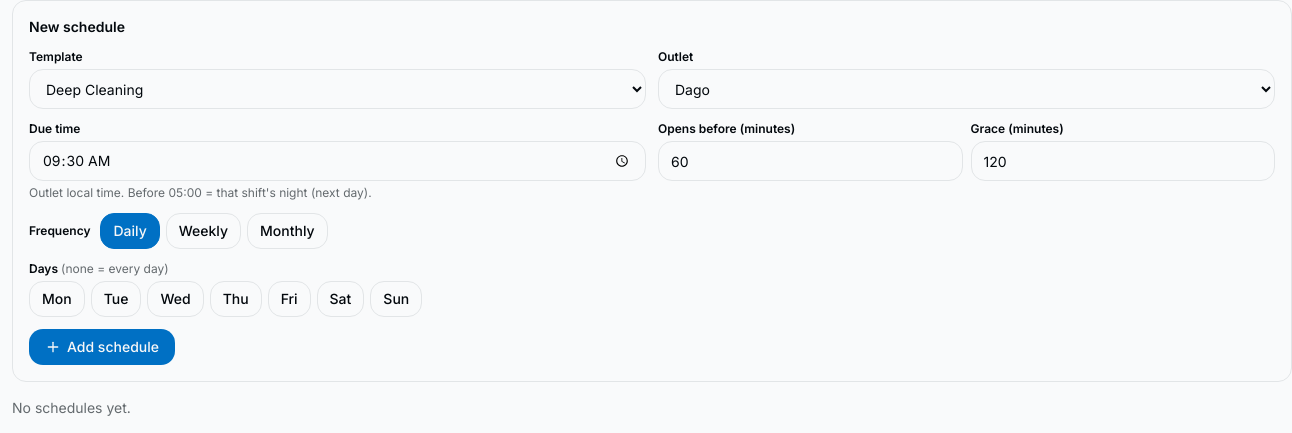
Test case: OpsSchedulePanel frequency › weekly picks one day and sends the window in minutes
Later steps or results of the test are not shown.
Step 1. Click the radio button labelled "Weekly" → x=203, y=231, box x1=166 y1=213 x2=241 y2=249
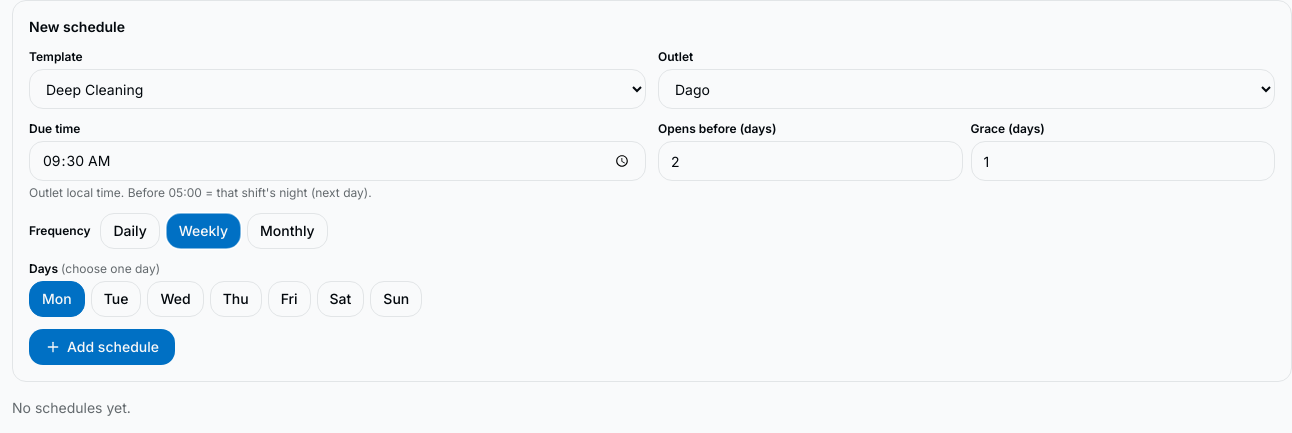
Result: the number field labelled "Opens before (days)" holds "2" at x1=658 y1=141 x2=962 y2=181
